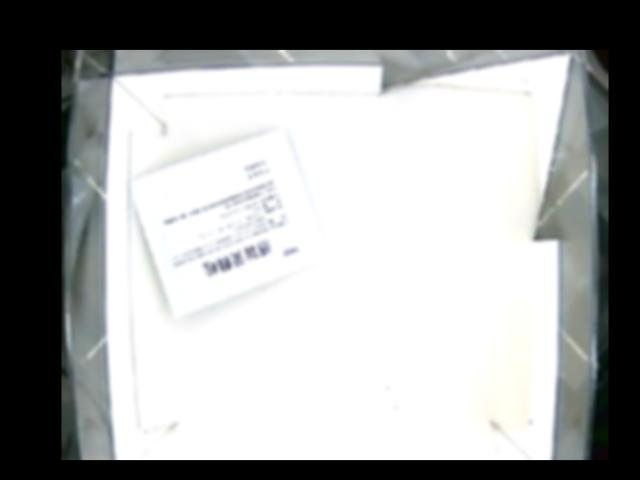Medicine: (131, 127, 328, 318)
